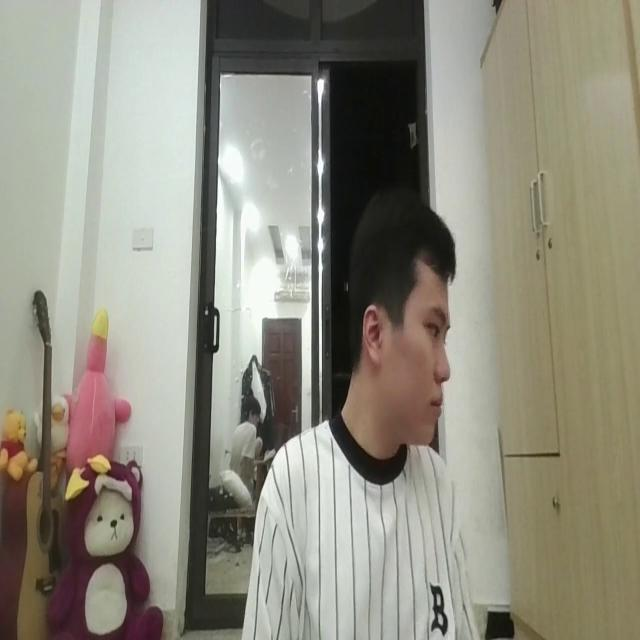student: (243, 193, 477, 640)
